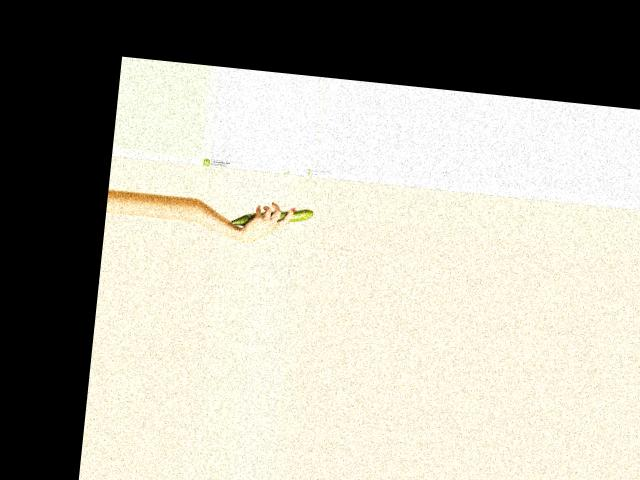cucumber: (230, 200, 313, 232)
